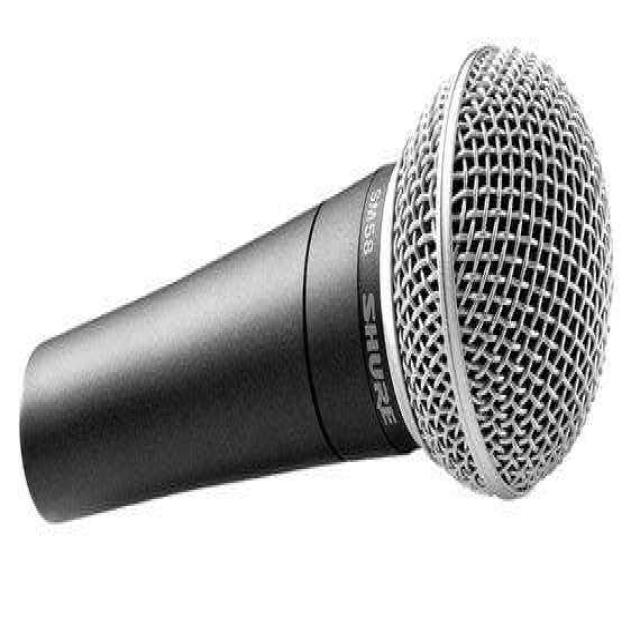microphone: (23, 38, 611, 530)
